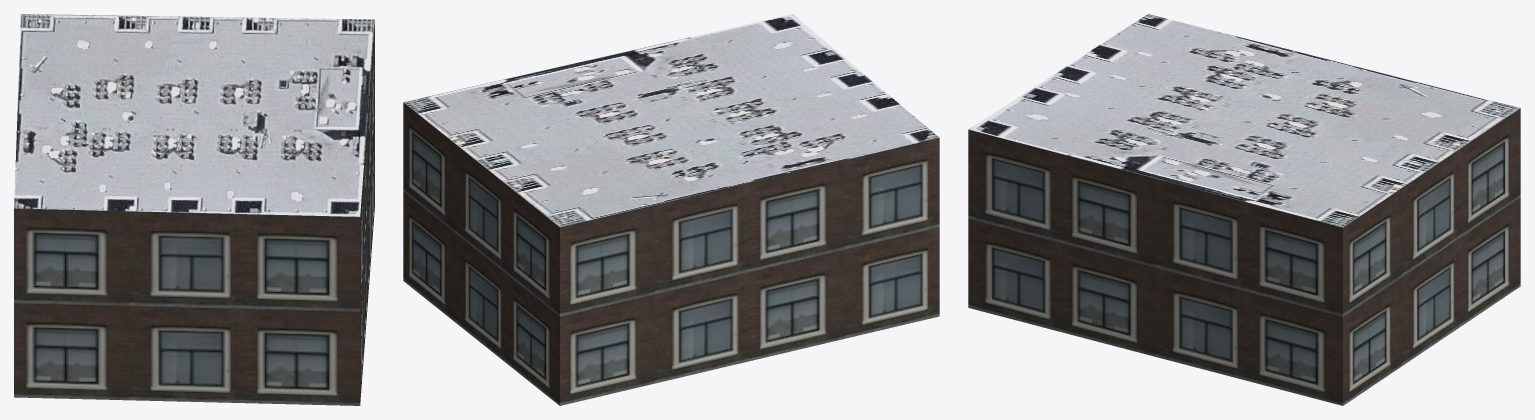
The model's file is ResTex__780.fbx.
3 renders of one model, left to right at view 1: azimuth 30°, elevation 25°; view 2: azimuth 150°, elevation 25°; view 3: azimuth 270°, elevation 25°, orthographic. The views are drawn at different scales.
Parts seen in each view (by area): view 1: CityEngineMaterial_15_m, CityEngineMaterial_16_m; view 2: CityEngineMaterial_16_m, CityEngineMaterial_15_m; view 3: CityEngineMaterial_16_m, CityEngineMaterial_15_m.
Part boxes in pixels (x1,y1,x2,y2): CityEngineMaterial_15_m: (14, 14, 374, 216); CityEngineMaterial_16_m: (14, 20, 374, 405); CityEngineMaterial_16_m: (403, 102, 939, 405); CityEngineMaterial_15_m: (403, 14, 939, 226); CityEngineMaterial_16_m: (968, 108, 1520, 405); CityEngineMaterial_15_m: (968, 14, 1519, 227).
Size of the model in its own units: 15.41 by 6 by 16.84.
2 materials, 2 textured.
